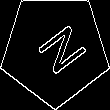N_SW: (24, 18, 86, 80)
